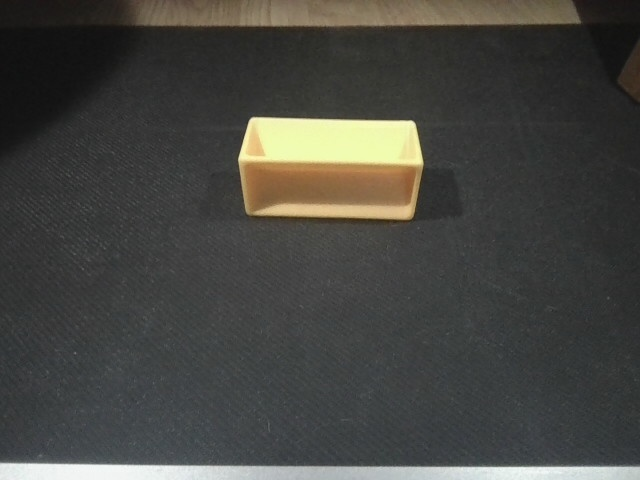YellowSample: (235, 112, 422, 221)
